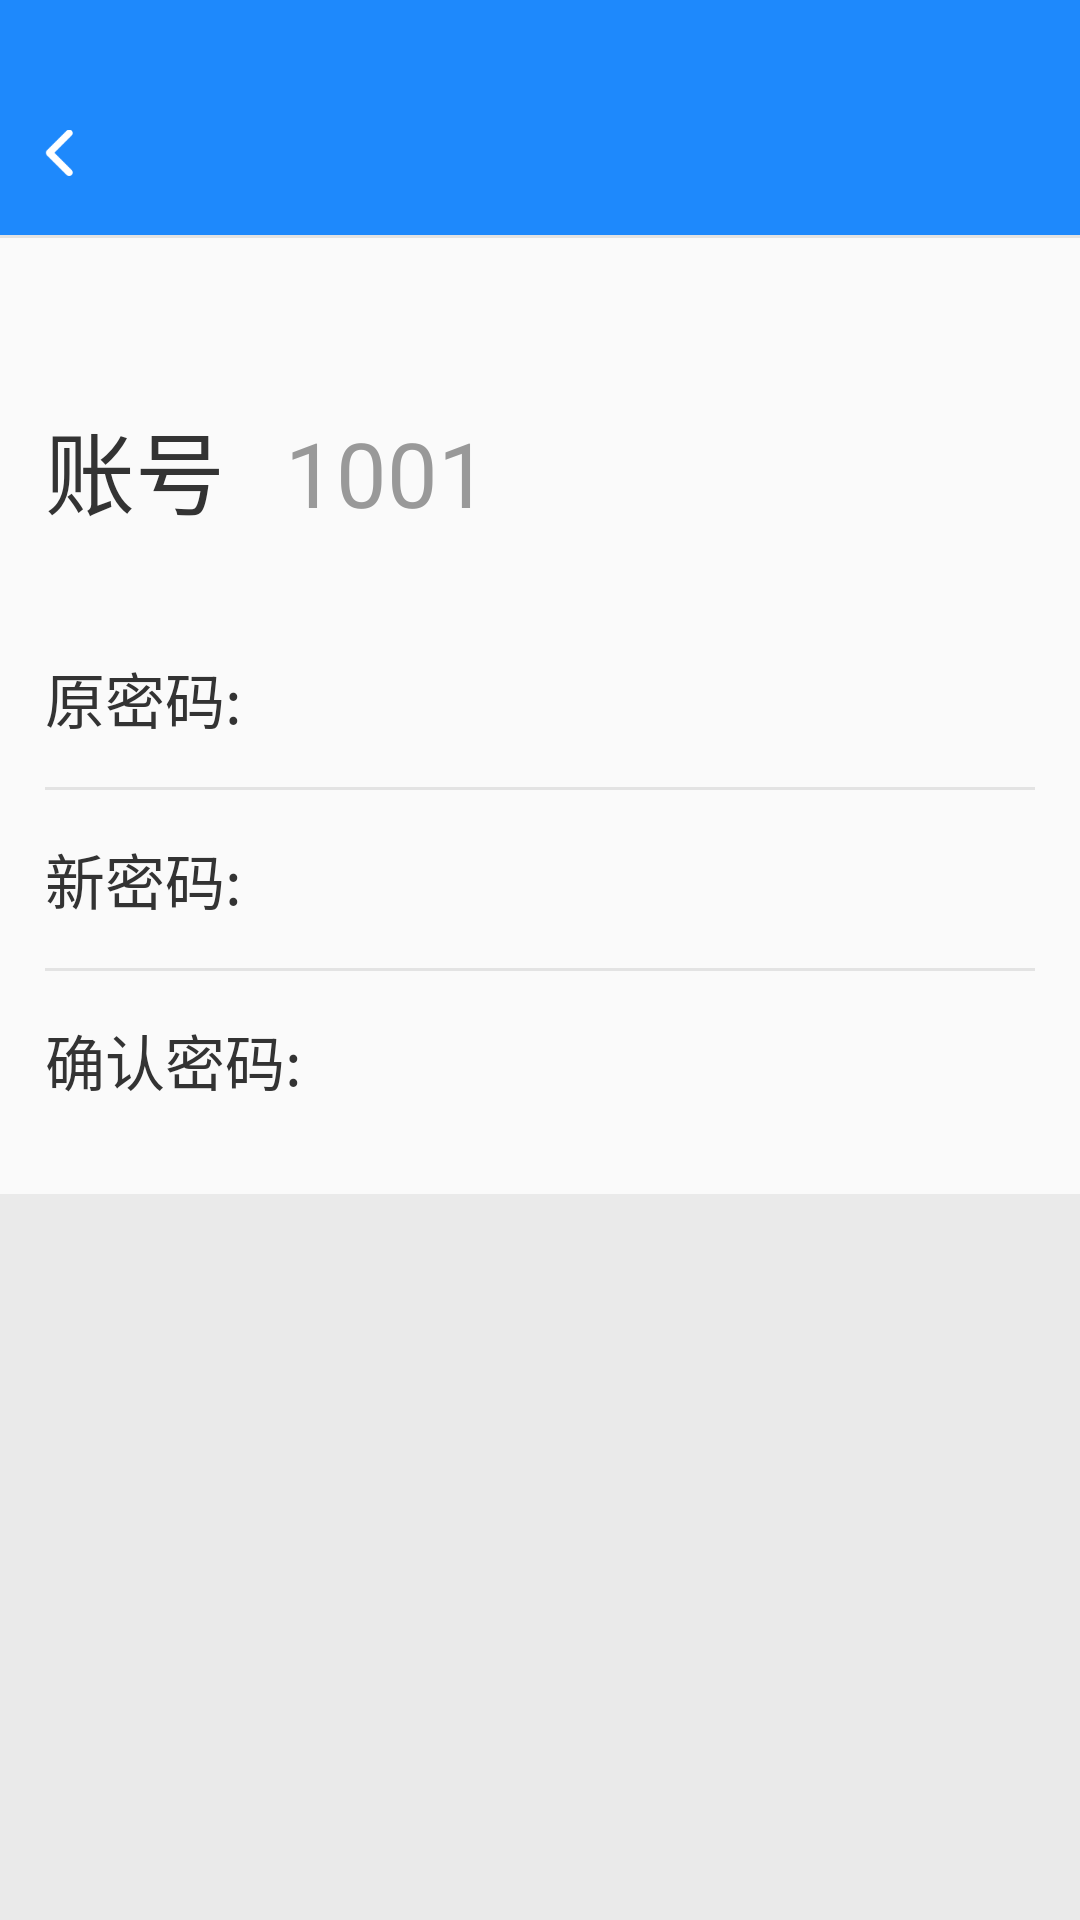

Screen size 1080px x 1920px. Icon name, then its box in pixels as {"left": x1, "top": y1, "right": x2, "bottom": y2}:
back: {"left": 45, "top": 130, "right": 73, "bottom": 176}
